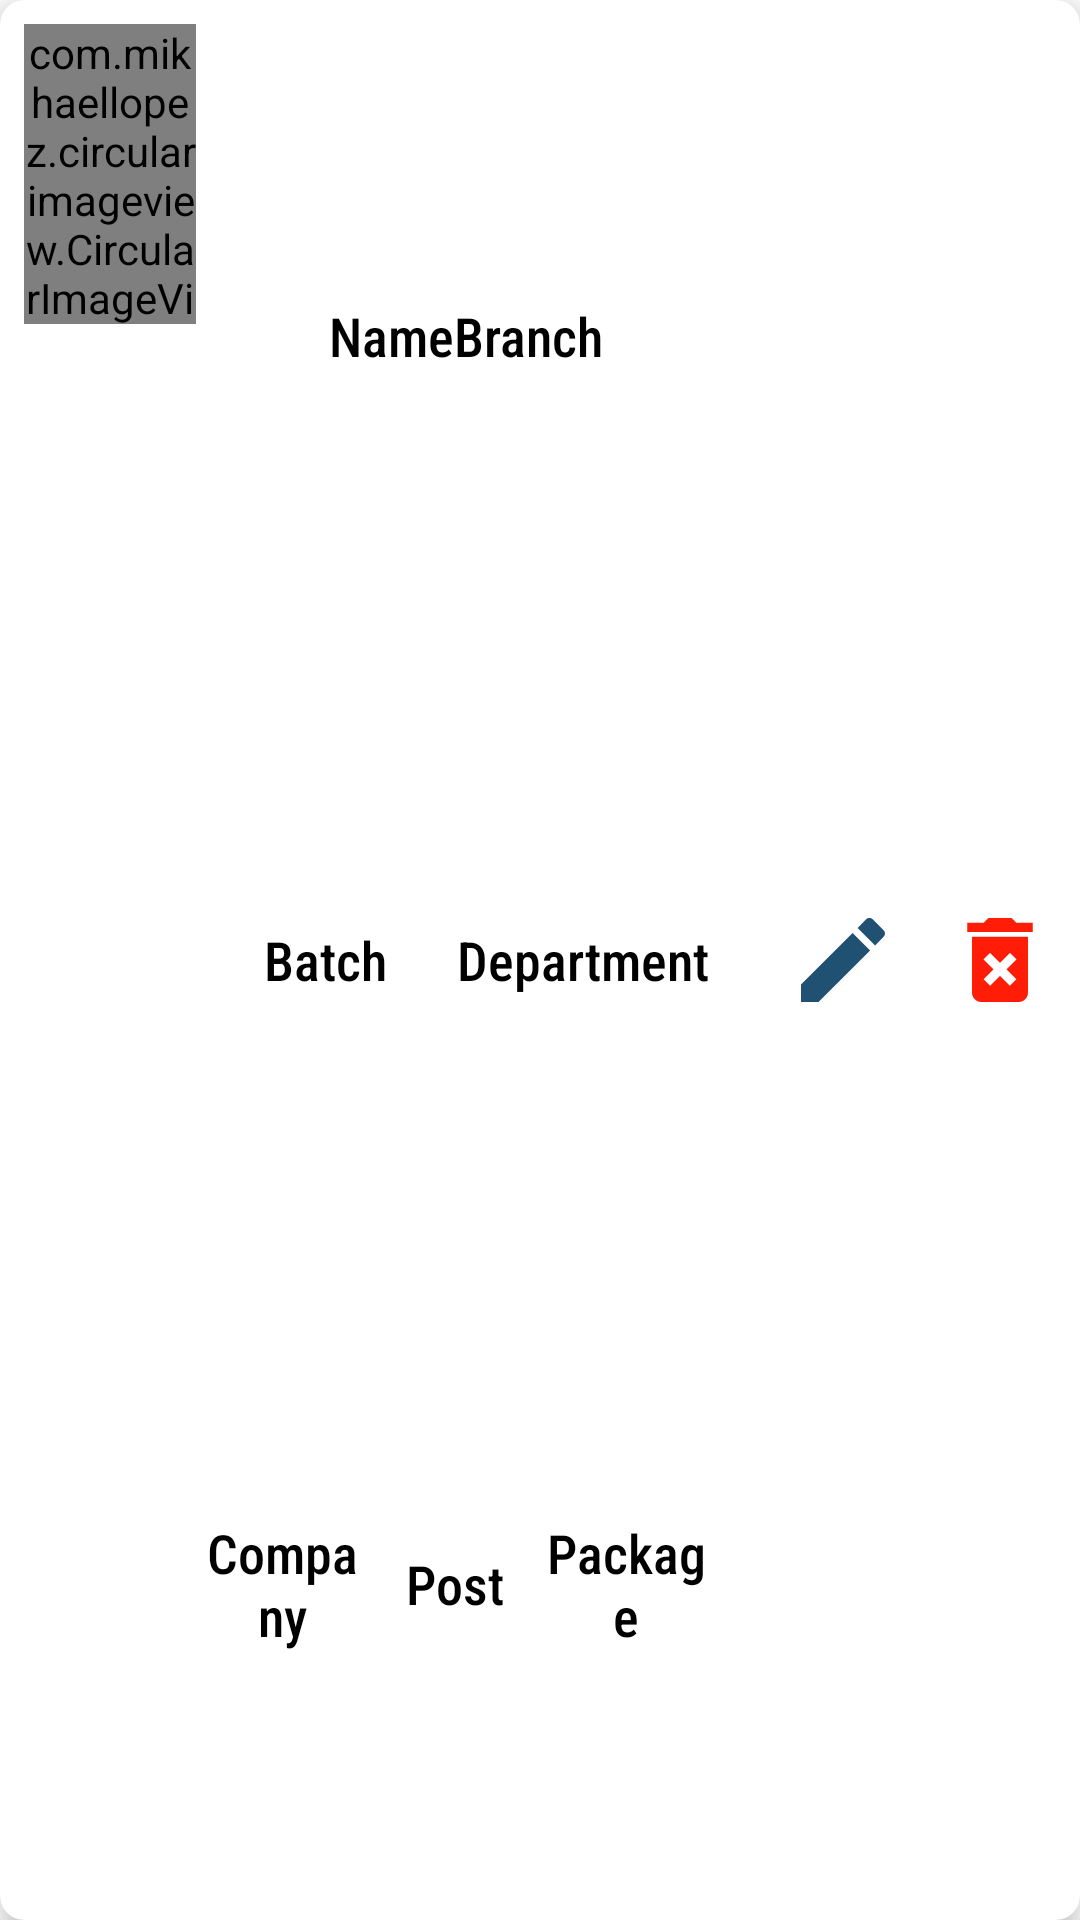

Locate icon controls on the screen. Image size 1080×1920, boxes as BBox(x1, y1, x2, y2).
delete forever: BBox(967, 918, 1033, 1002)
edit: BBox(801, 918, 885, 1002)
